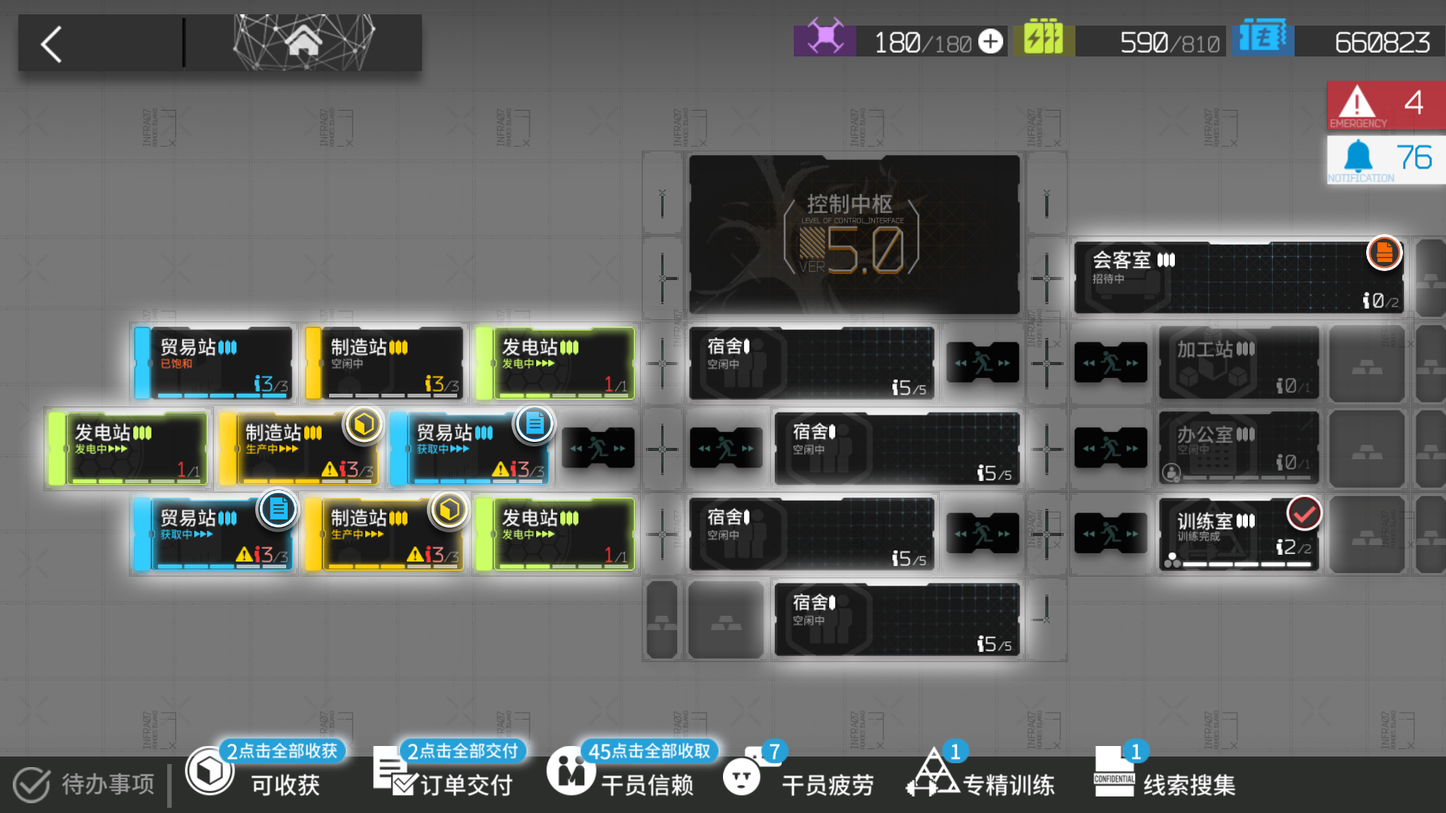All_Collection_Button: (186, 740, 326, 801)
All_Trading_Post_Collection_Button: (376, 744, 525, 790)
All_Trust_Collection_Button: (550, 734, 703, 799)
Notification_Button: (1330, 135, 1393, 185)
Return_Button: (28, 14, 106, 73)
